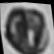correct: (0, 1, 54, 54)
